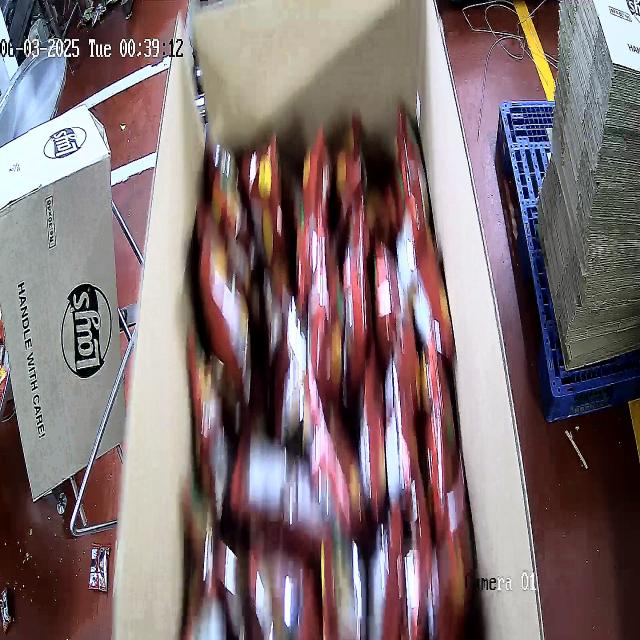MASALA: (185, 103, 478, 638)
